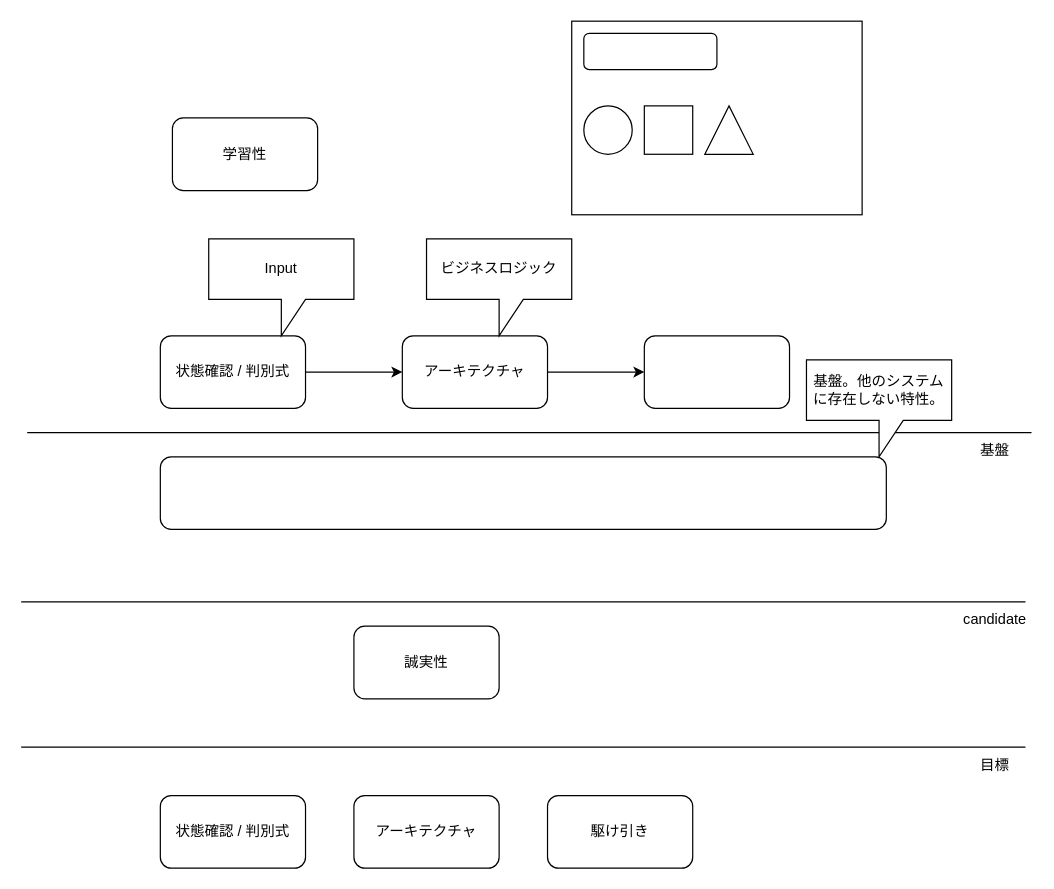
Some shapes in this 1054 by 889 pixel diagram are drawn without their labels. Each missing label, with the centre of its shape:
"スタイル" belongs at [716,371].
"有限個の要素" belongs at [650,51].
"読み取り不可能性" belongs at [522,492].
